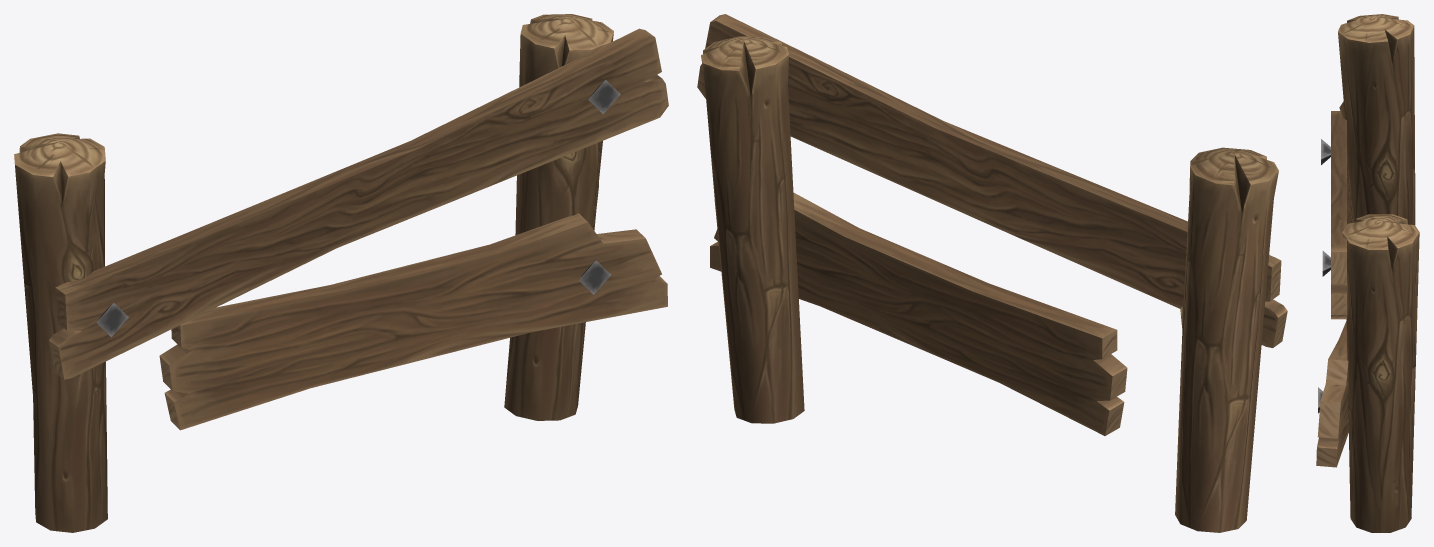
The model's file is Fence1_2.fbx.
3 renders of one model, left to right at view 1: azimuth 30°, elevation 25°; view 2: azimuth 150°, elevation 25°; view 3: azimuth 270°, elevation 25°, orthographic. The views are drawn at different scales.
Visible parts, largest first — view 1: polySurface122; view 2: polySurface122; view 3: polySurface122.
Part boxes in pixels (<box>): polySurface122: <box>14,14,668,532</box>; polySurface122: <box>697,14,1287,532</box>; polySurface122: <box>1316,14,1419,532</box>.
Size of the model in its own units: 113 by 67.52 by 20.22.
1 material, 1 textured.
